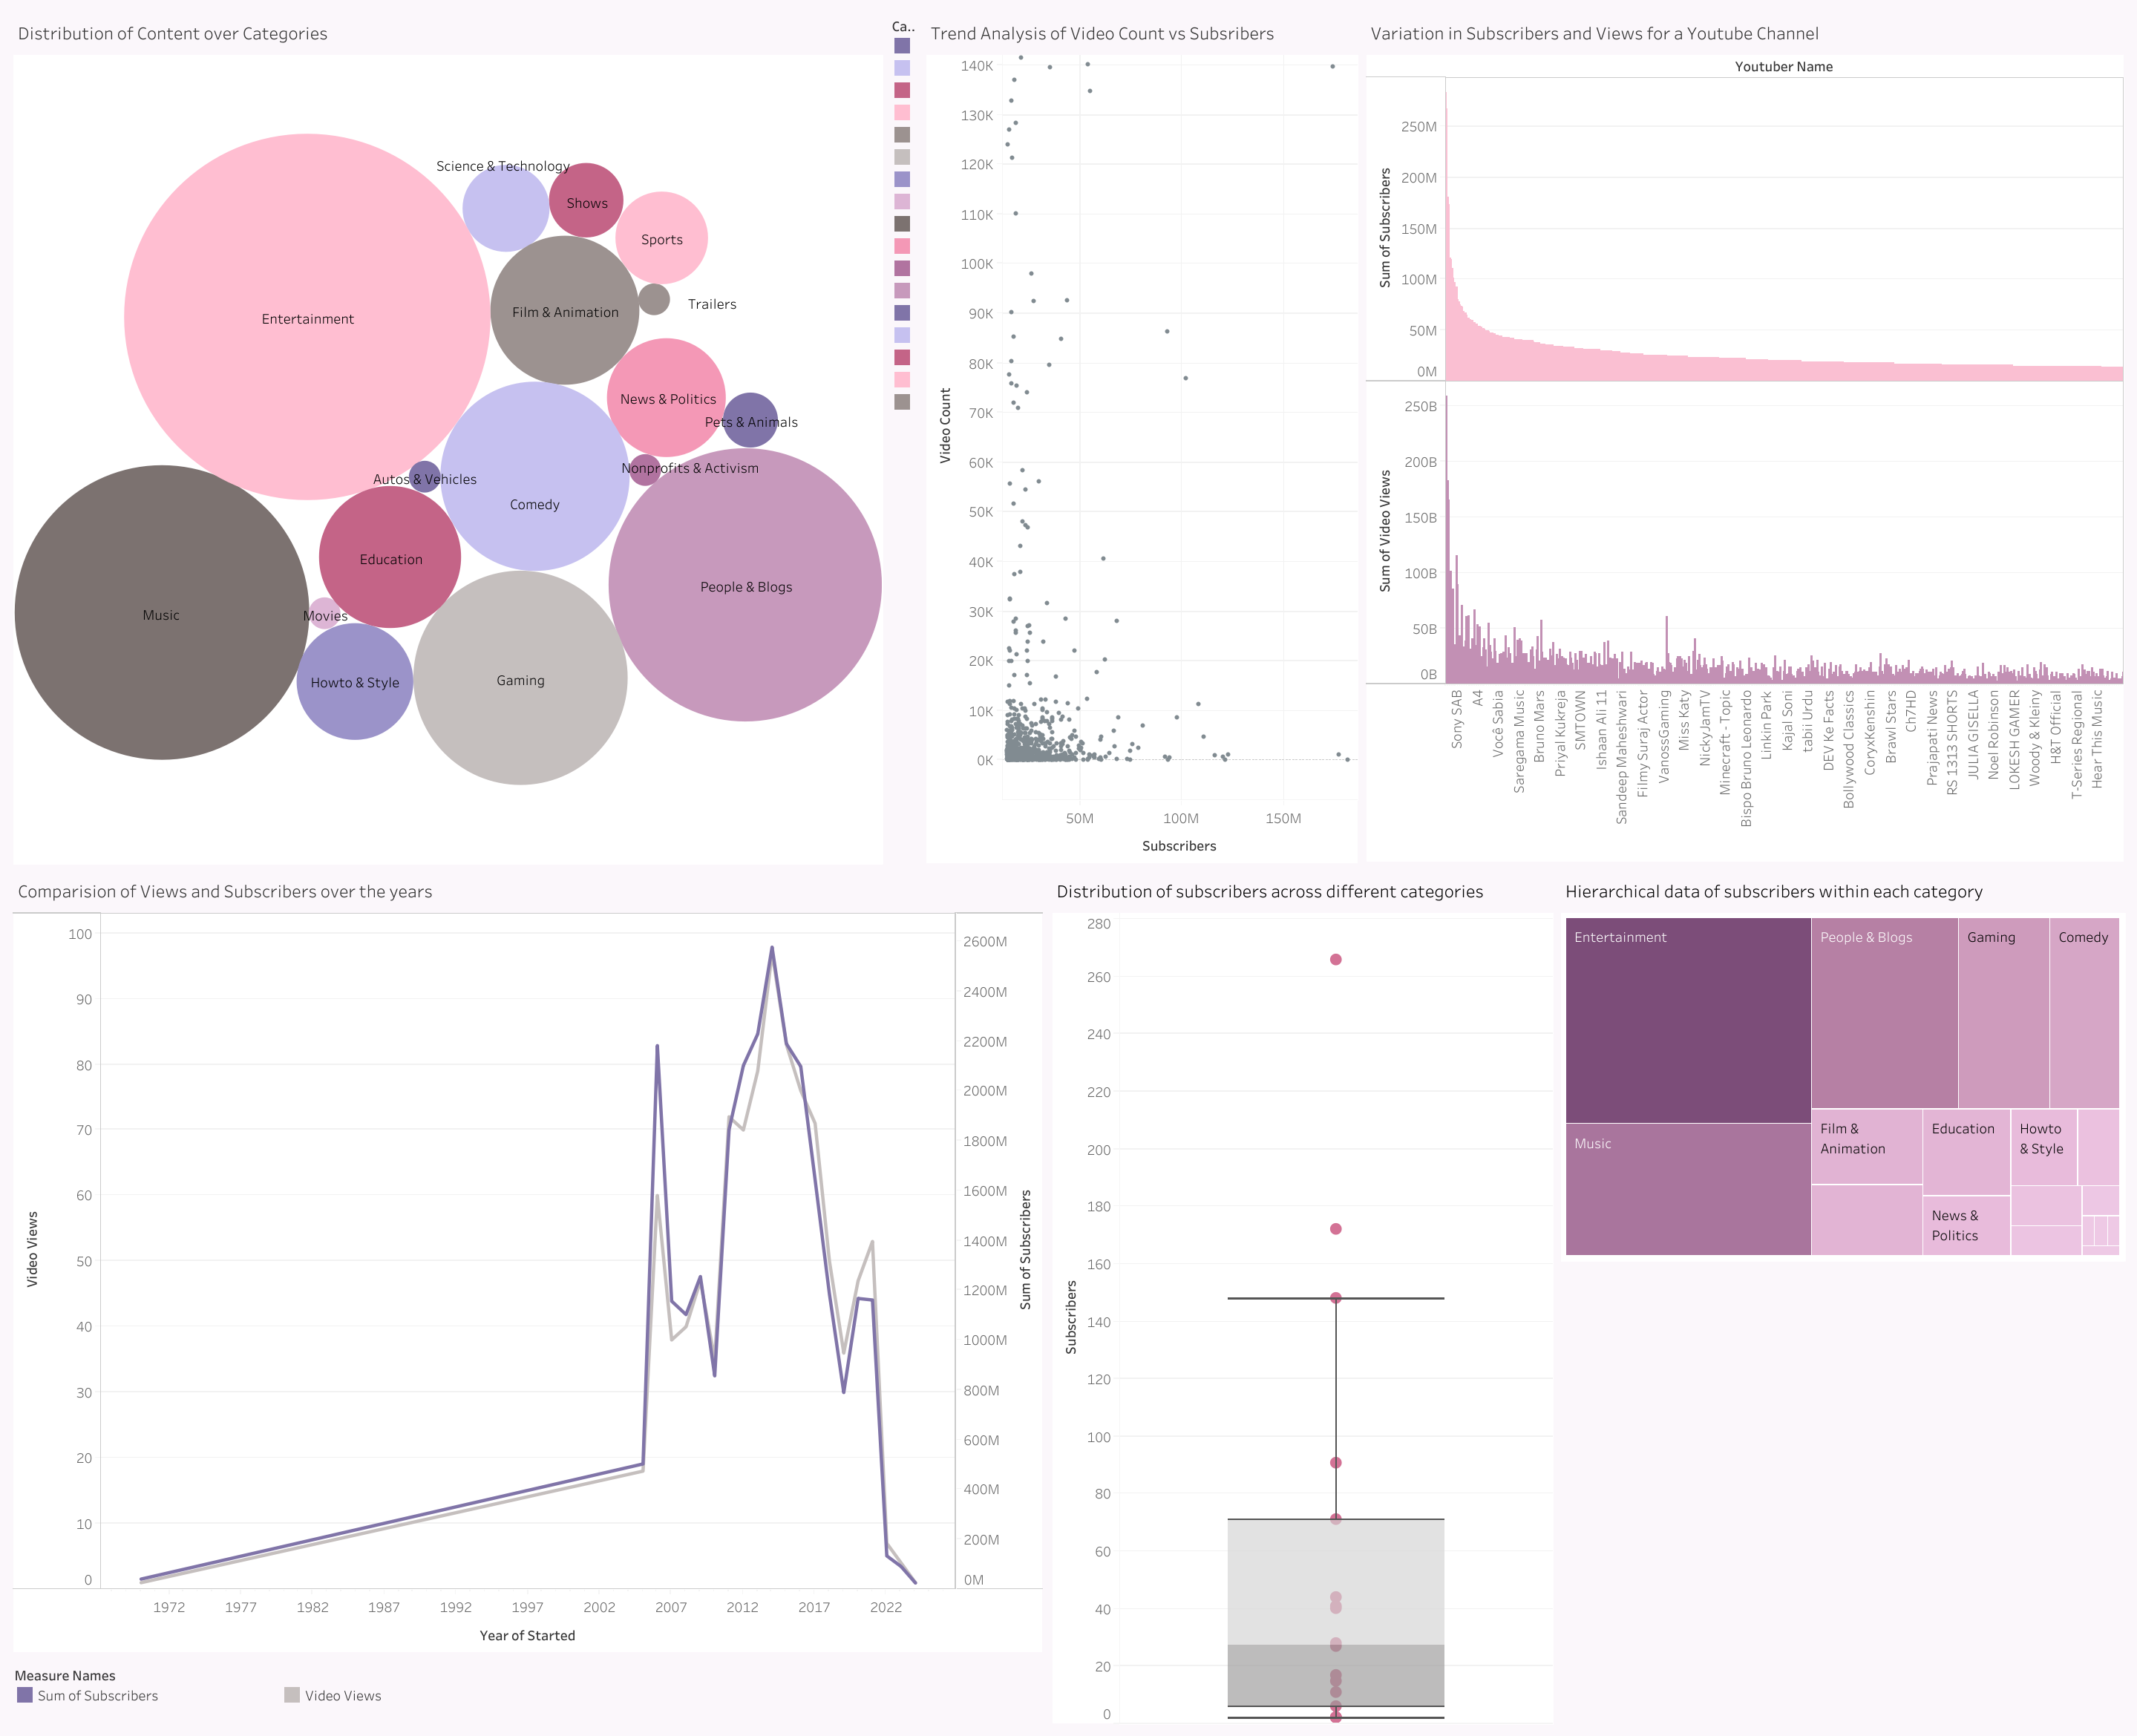

What the dashboard file says about the page in this screenshot:
{"tool":"tableau","page":{"name":"Dashboard 2","canvas":[1000,1000],"units":"permille","ordinal":0},"visuals":[{"type":"worksheet","title":"Sheet 3","mark":"Circle","box":[4.2,9.3,410.4,490.1]},{"type":"legend","title":"Sheet 3","param":"[federated.1q7przi10l2t8a15gxpxz04nfjs4].[none:Category:nk]","box":[414.6,9.3,16.7,490.1]},{"type":"worksheet","title":"Sheet 4","mark":"Automatic","rows":["Video Count"],"cols":["Subscribers"],"box":[431.2,9.3,205.7,490.1]},{"type":"worksheet","title":"Sheet 1","mark":"Automatic","rows":["Subscribers","Video Views"],"cols":["Youtuber_Name"],"box":[637,9.3,358.9,490.1]},{"type":"worksheet","title":"Sheet 2","mark":"Automatic","rows":["Video Views","Subscribers"],"cols":["Started"],"box":[4.2,499.4,485.9,451.6]},{"type":"worksheet","title":"Sheet 5","mark":"Circle","rows":["Subscribers"],"box":[490.1,499.4,238,491.4]},{"type":"worksheet","title":"Sheet 6","mark":"Automatic","box":[728.1,499.4,267.7,491.4]},{"type":"legend","title":"Sheet 2","param":"[federated.1q7przi10l2t8a15gxpxz04nfjs4].[:Measure Names]","box":[4.2,951,485.9,39.7]}]}

Visuals, with their boxes on the dashboard's canvas, which has no fixed pixel size, in thousandths of its width and height (x1, y1, x2, y2). These are canvas units, not pixel positions in the 2137x1736 screenshot, which may show the page scaled, cropped or inside an application window:
"Sheet 3" worksheet (Circle marks): Rect(4, 9, 415, 499)
"Sheet 3" legend: Rect(415, 9, 431, 499)
"Sheet 4" worksheet: Rect(431, 9, 637, 499)
"Sheet 1" worksheet: Rect(637, 9, 996, 499)
"Sheet 2" worksheet: Rect(4, 499, 490, 951)
"Sheet 5" worksheet (Circle marks): Rect(490, 499, 728, 991)
"Sheet 6" worksheet: Rect(728, 499, 996, 991)
"Sheet 2" legend: Rect(4, 951, 490, 991)
